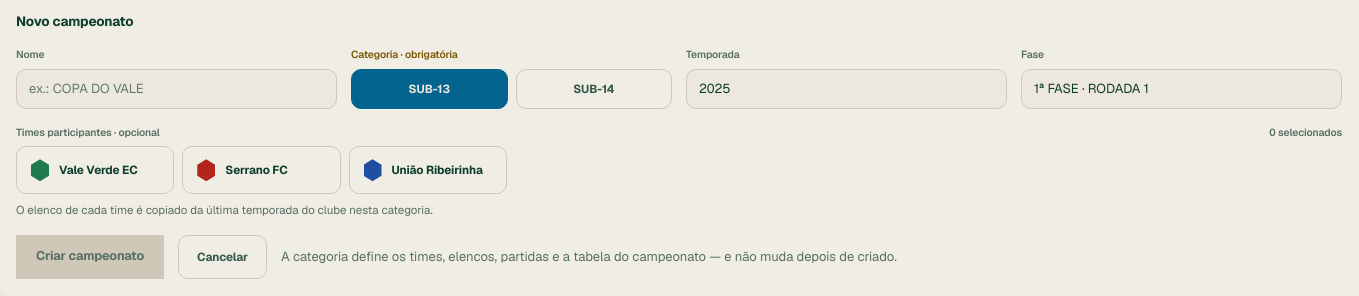
Test: NewChampionshipPanel › counts the selected clubs
The width and height of the screenshot is (1359, 296).
Click the checkbox labelled "Vale Verde EC" at (95, 170), box [16, 146, 174, 194]
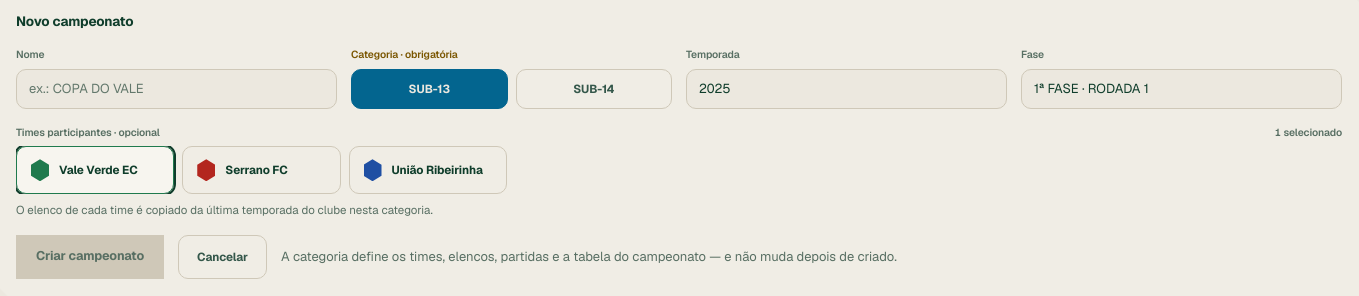
Click the checkbox labelled "Serrano FC" at (261, 170), box [182, 146, 341, 194]
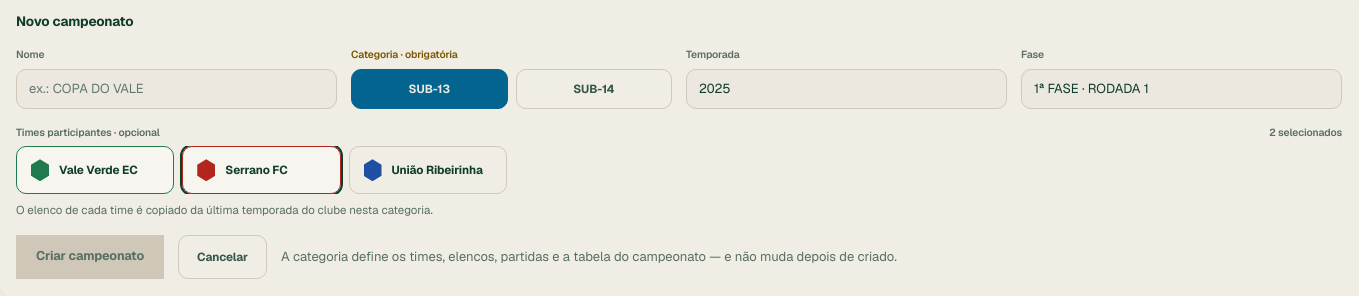
Click the checkbox labelled "Vale Verde EC" at (95, 170), box [16, 146, 174, 194]
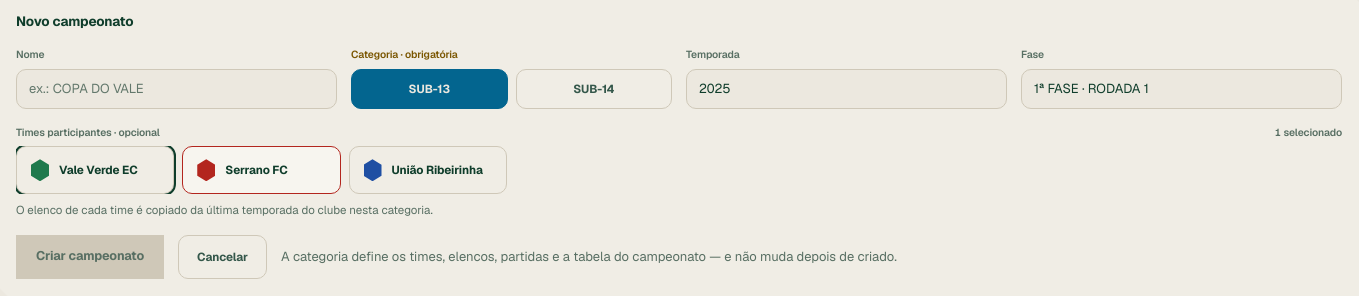
Expected: the checkbox labelled "Serrano FC" is checked, [182, 146, 341, 194]
Result: the text "1 selecionado" is shown at [1275, 125, 1342, 140]
